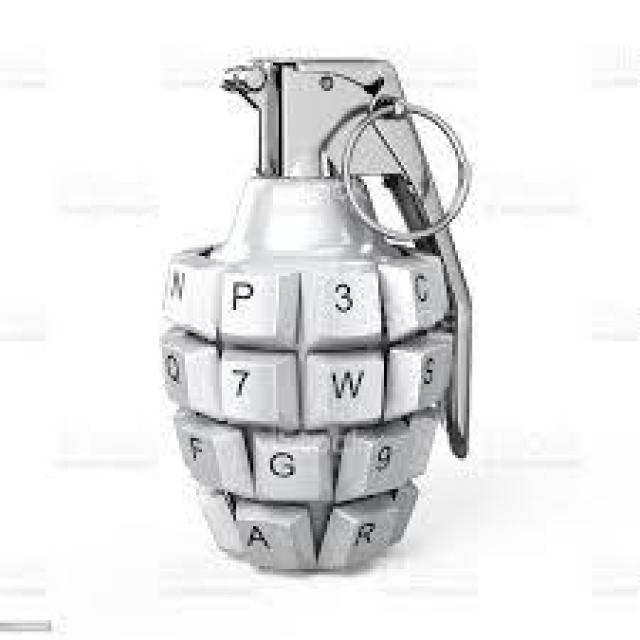grenade: (160, 46, 503, 563)
